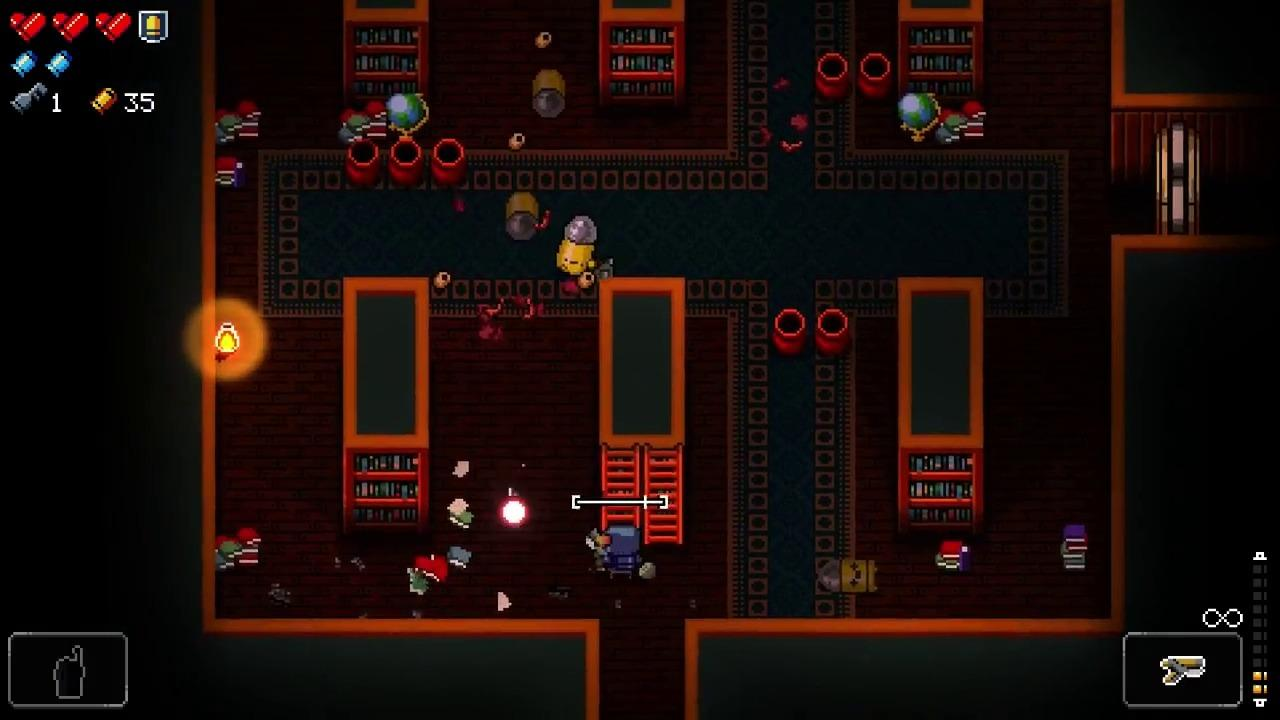bullet: (499, 495, 530, 529)
bullet_kin: (558, 216, 596, 278)
dead_bullet_kin: (817, 558, 876, 594), (507, 191, 540, 241), (532, 69, 564, 116)
locked_door: (1153, 120, 1201, 236)
player: (604, 525, 643, 580)
